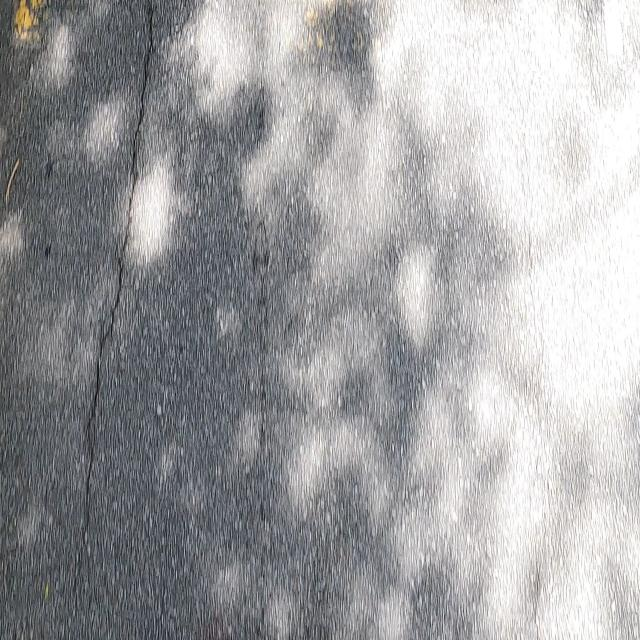Retak-Memanjang: (82, 7, 161, 507)
